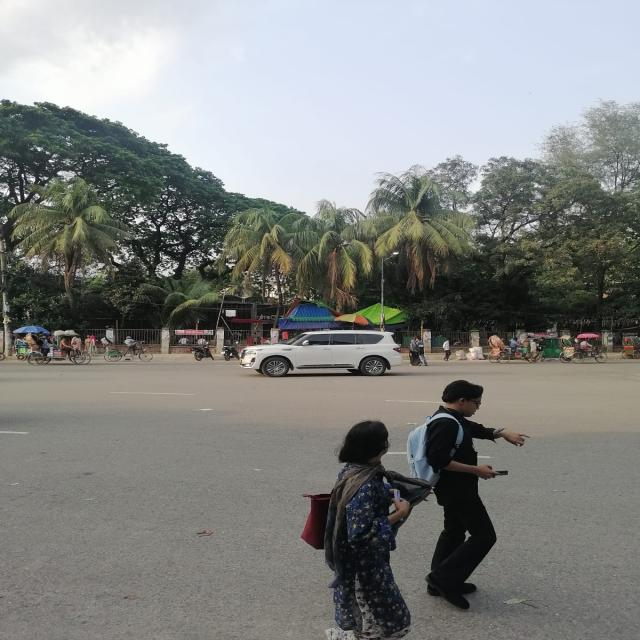person: (408, 380, 529, 610), (324, 420, 430, 640)
